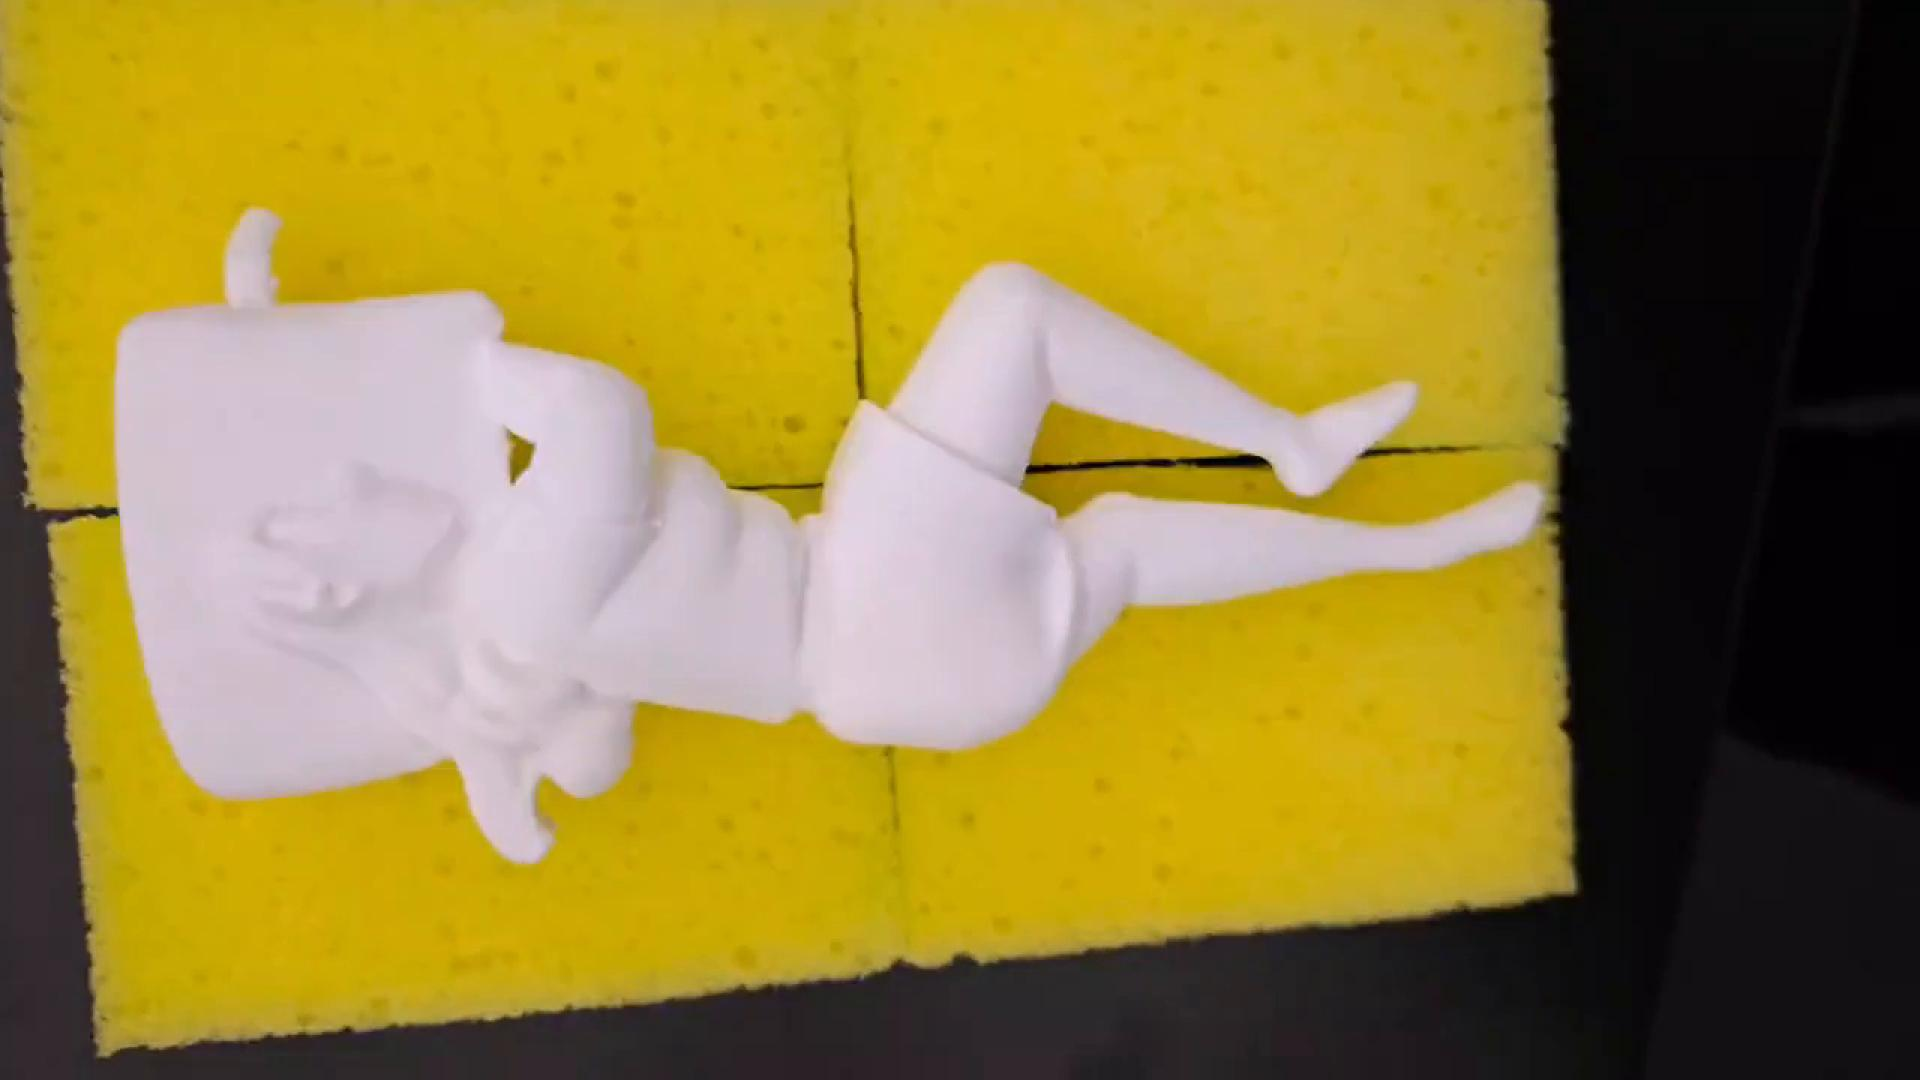Good-style: (105, 210, 1556, 864)
